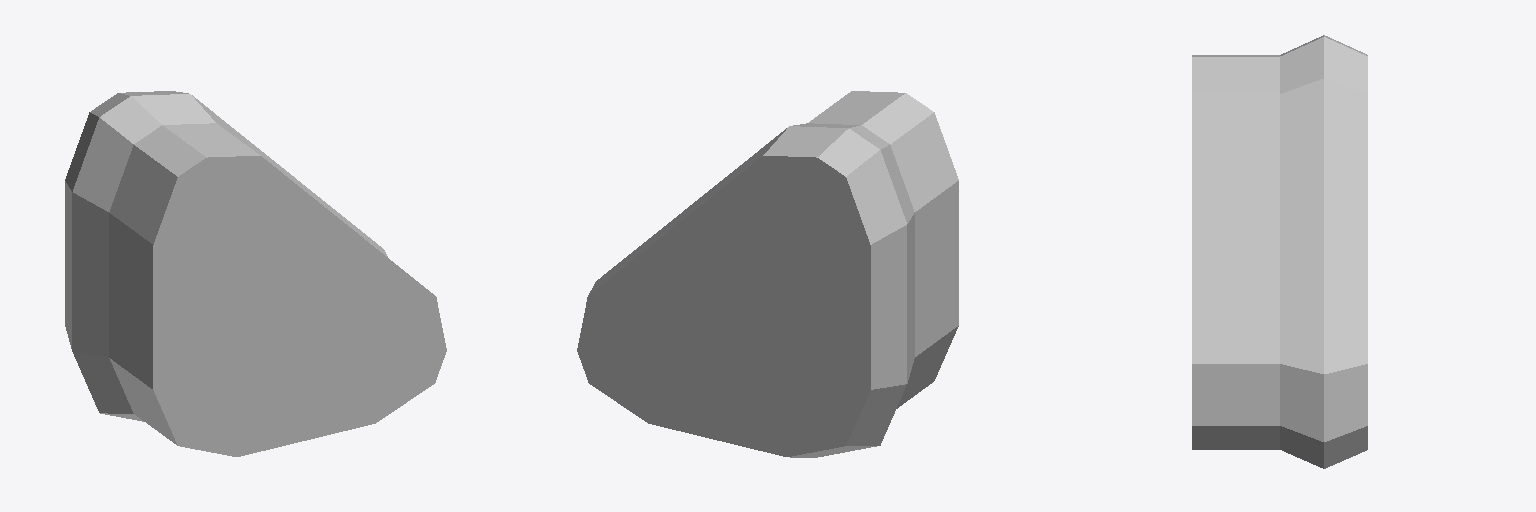
The model's file is block-snow-corner-low.obj.
3 renders of one model, left to right at view 1: azimuth 30°, elevation 25°; view 2: azimuth 150°, elevation 25°; view 3: azimuth 270°, elevation 25°, orthographic.
Parts seen in each view (by area): view 1: block-snow-corner-low; view 2: block-snow-corner-low; view 3: block-snow-corner-low.
Part boxes in pixels (x1,y1,x2,y2): block-snow-corner-low: (65, 91, 446, 456); block-snow-corner-low: (577, 91, 958, 457); block-snow-corner-low: (1192, 35, 1367, 468).
Bounding box in the file's own units: 1.05 × 1.05 × 0.5.